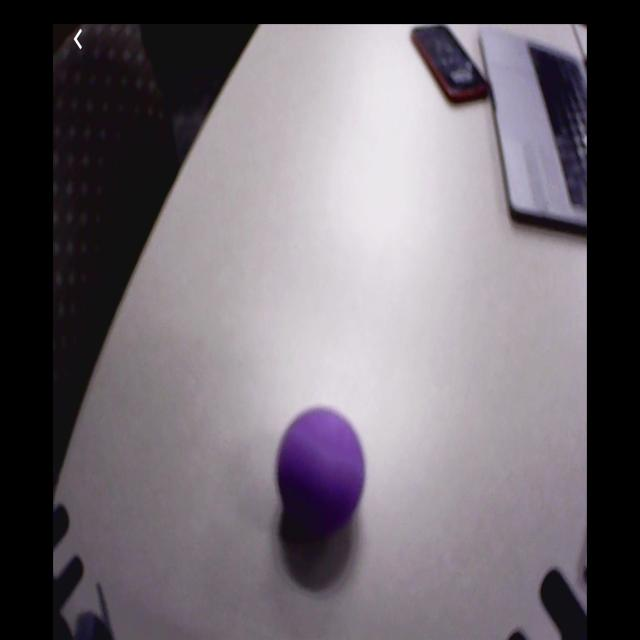ball: (278, 406, 365, 528)
